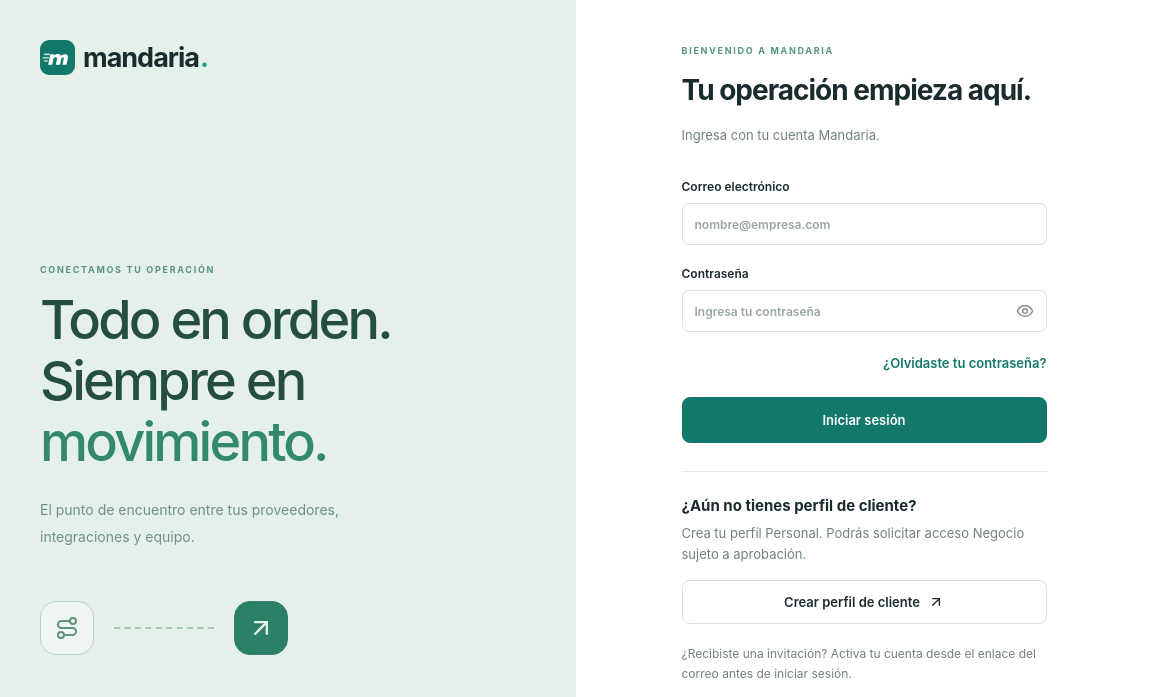
it: auth and permissions UX › submits login and displays an incorrect password error
Step 1. Type "admin@example.test" into the field labelled "Correo electrónico" → (864, 224), box [682,203,1046,245]
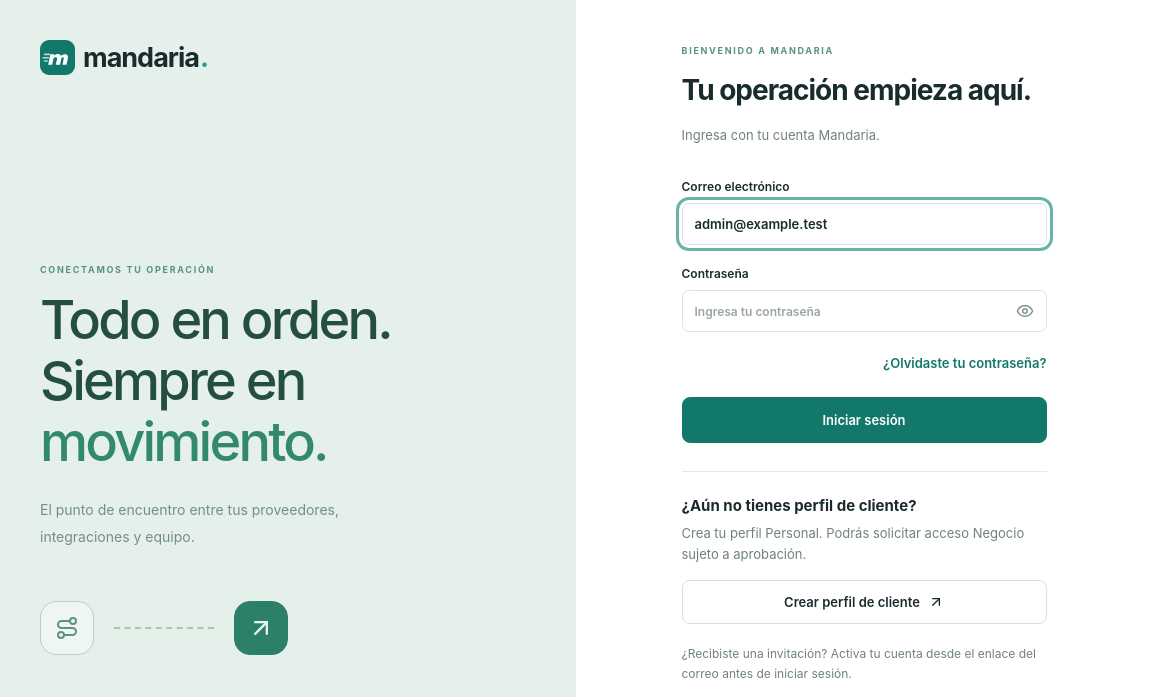
Step 2. Type "wrong" into the password field labelled "Contraseña" → (864, 311), box [682,290,1046,332]
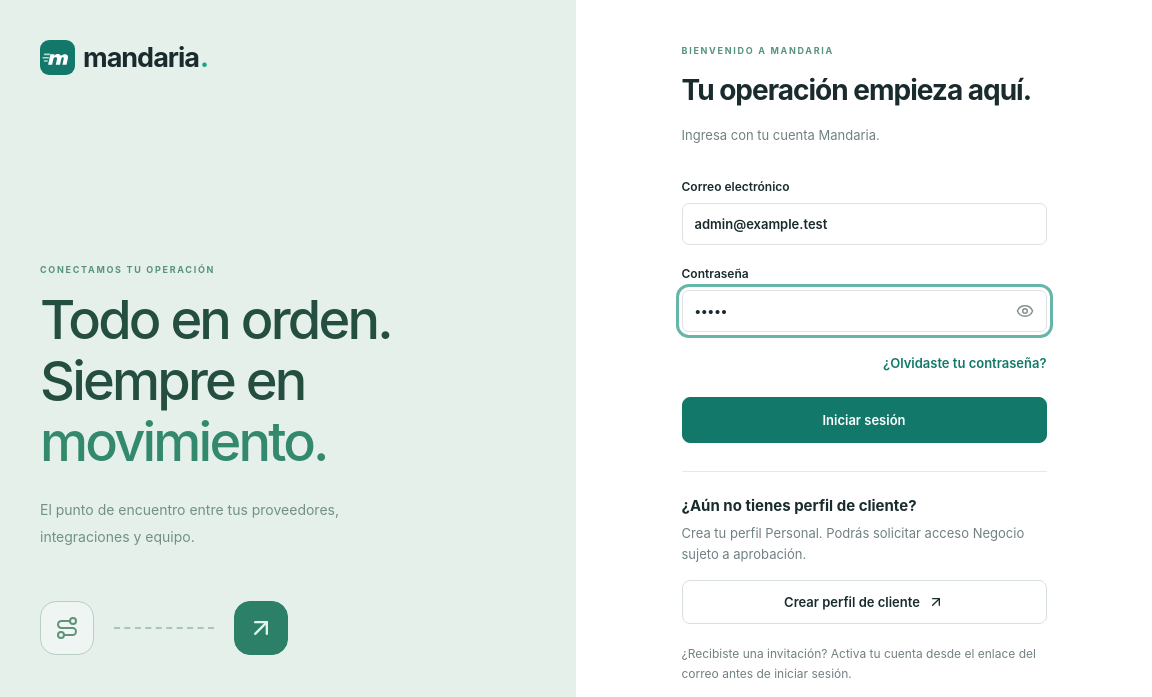
Step 3. Click the button "Iniciar sesión" → (864, 420), box [682,397,1046,443]
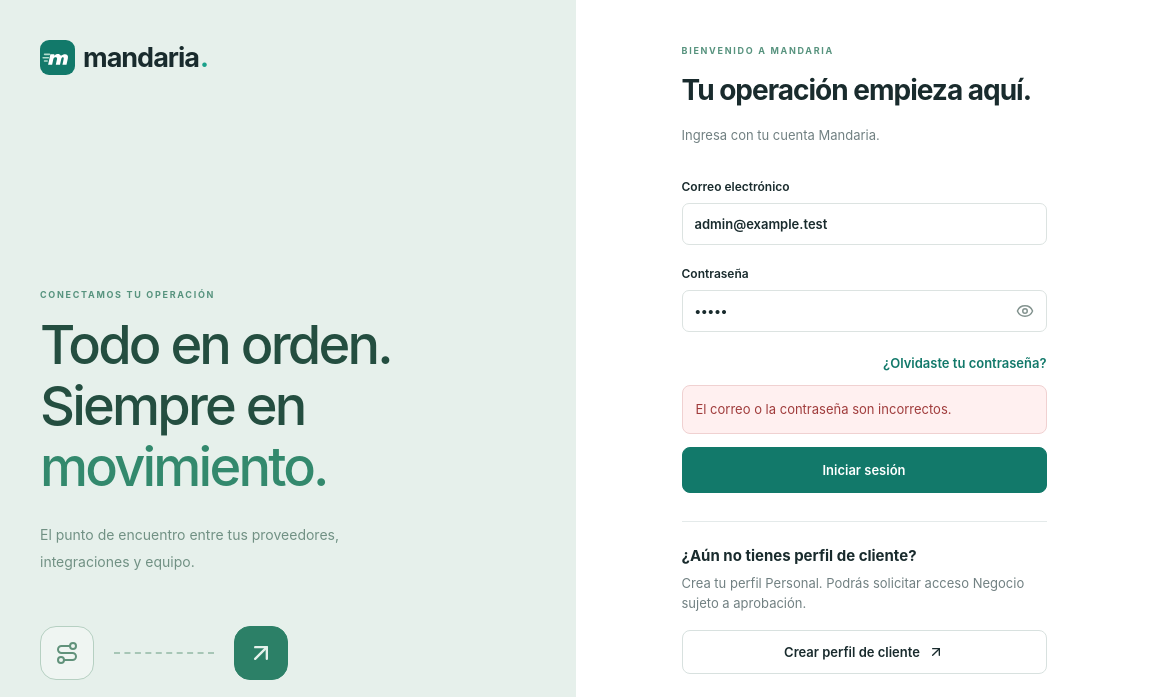
Check: the message shows "incorrectos", box [696,401,952,417]
